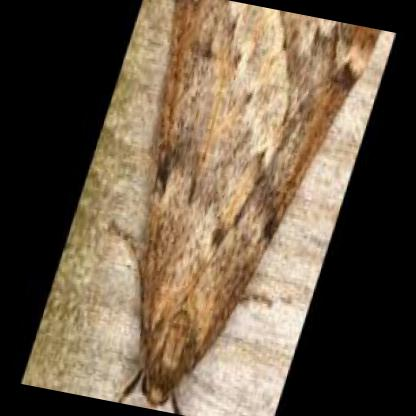Leaf Webber: (136, 0, 382, 408)
